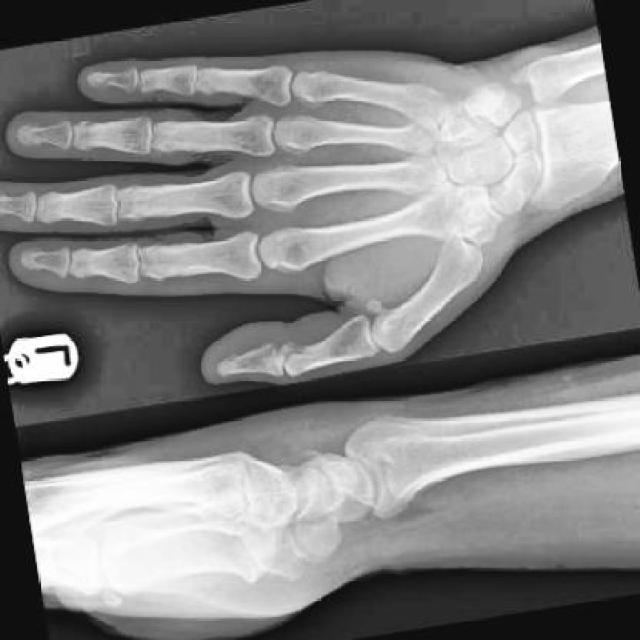Fracture: (477, 80, 513, 125), (299, 440, 325, 466)
